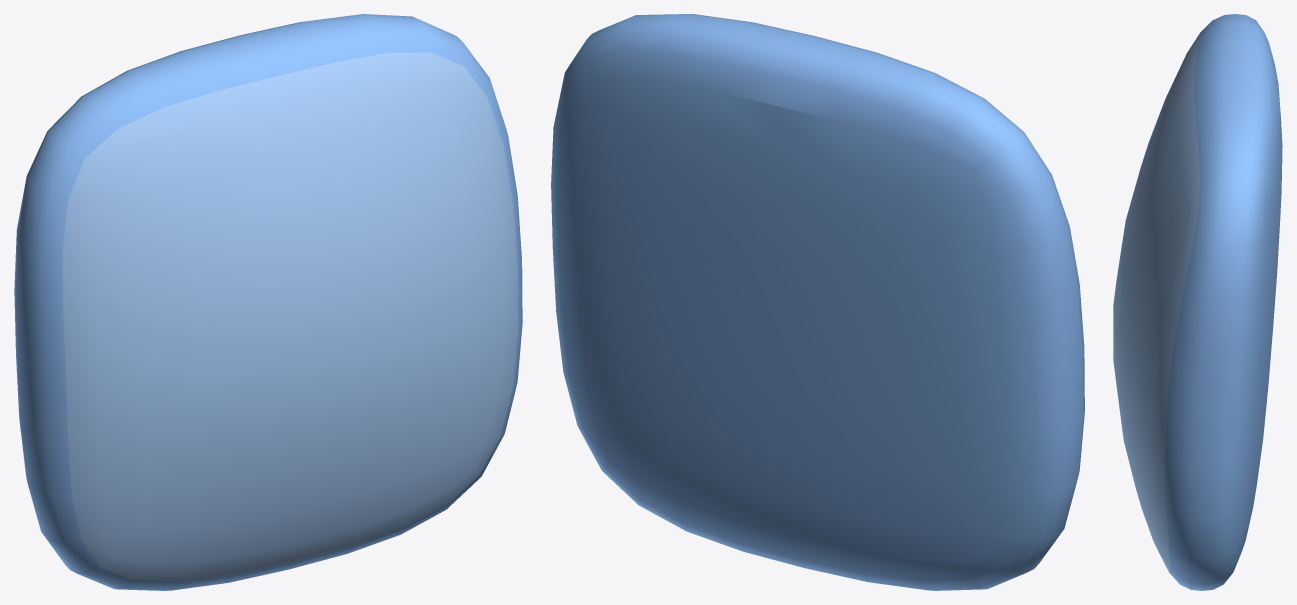
Rendered from 3d_pillow.fbx.
3 views of the same model, side by side, from view 1: azimuth 30°, elevation 25°; view 2: azimuth 150°, elevation 25°; view 3: azimuth 270°, elevation 25° (orthographic). The views are drawn at different scales.
Parts seen in each view (by area): view 1: 3d_pillow; view 2: 3d_pillow; view 3: 3d_pillow.
Boxes of the visible parts, x1,y1,x2,y2 form: 3d_pillow: [14, 14, 522, 590]; 3d_pillow: [551, 14, 1084, 590]; 3d_pillow: [1113, 14, 1282, 590].
Bounding box in the file's own units: 0.5301 × 0.5301 × 0.1746.
